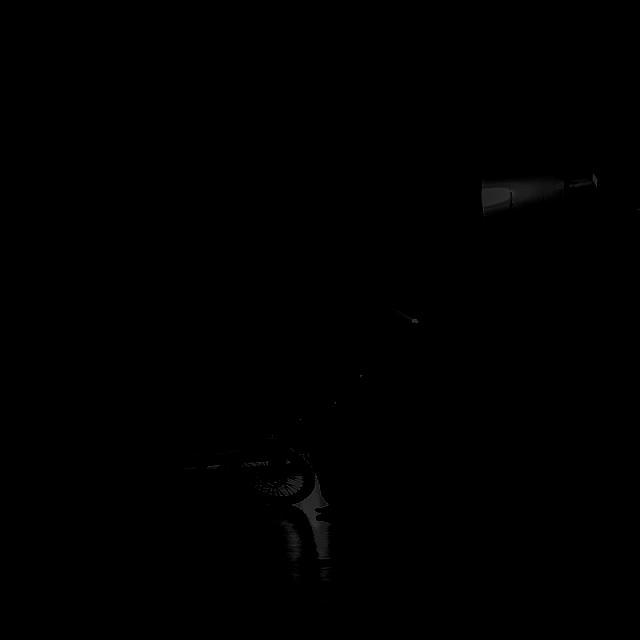Motorbike: (228, 364, 482, 541)
